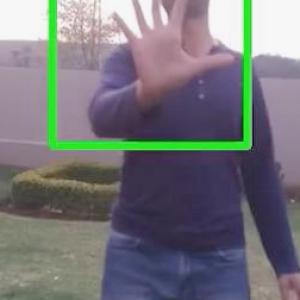follow_hand: (104, 0, 235, 105)
